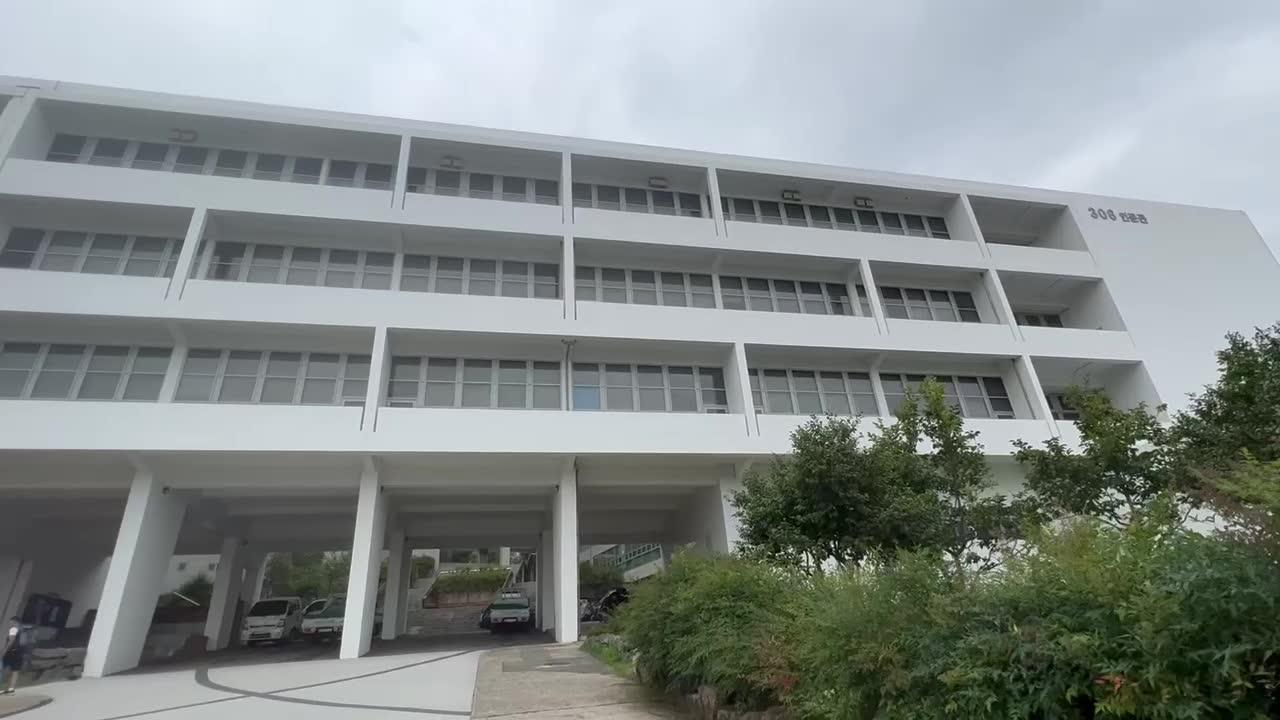building: (30, 78, 749, 494)
